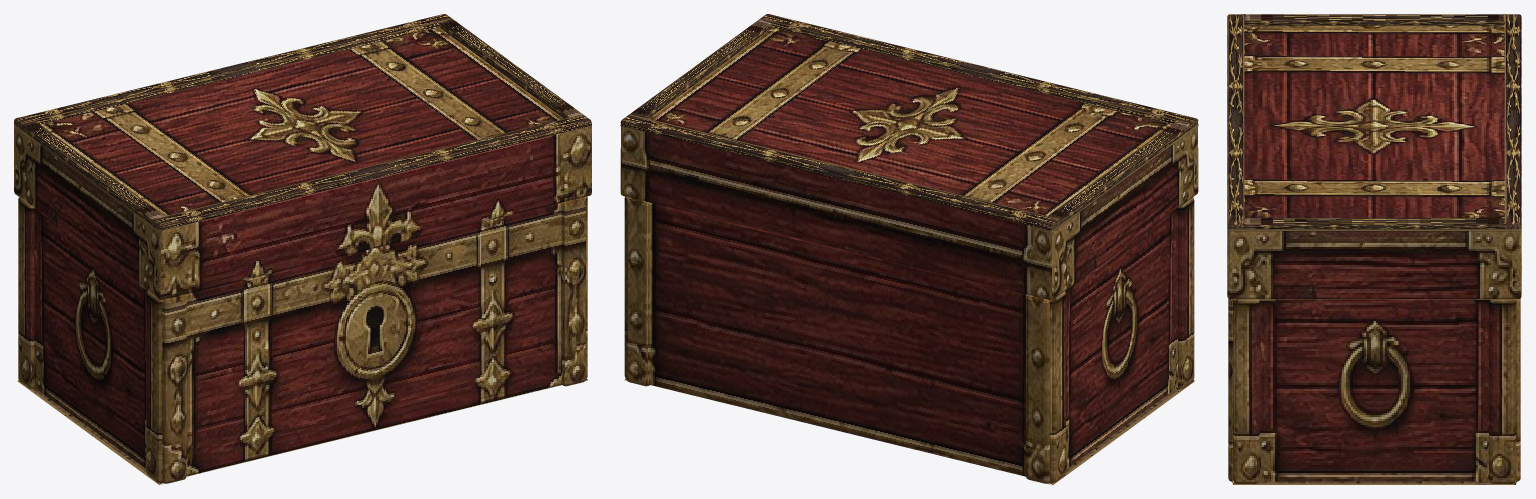
File: chest_gilded_red.glb
The picture shows the model from 3 angles, left to right: view 1: azimuth 30°, elevation 25°; view 2: azimuth 150°, elevation 25°; view 3: azimuth 270°, elevation 25°; orthographic projection.
Parts seen in each view (by area): view 1: lid, body; view 2: lid, body; view 3: lid, body.
Part boxes in pixels (x1,y1,x2,y2): lid: (14,14,591,299); body: (17,196,587,484); lid: (620,14,1198,299); body: (624,196,1194,484); lid: (1227,14,1521,298); body: (1228,298,1520,484).
Bounding box in the file's own units: 1.03 × 0.592 × 0.604.
1 material, 1 textured.
